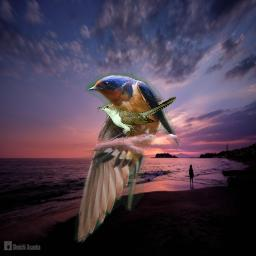Cuckoo: (97, 96, 176, 132)
Swallow: (74, 73, 181, 243)
